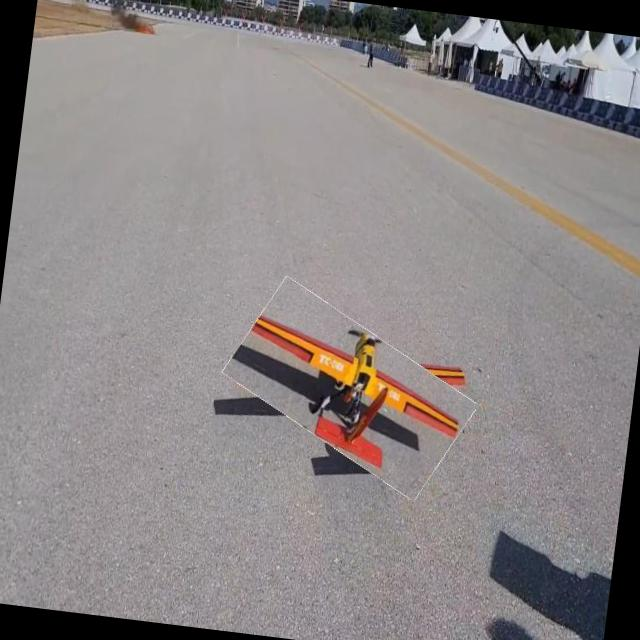UAV: (213, 327, 458, 484)
